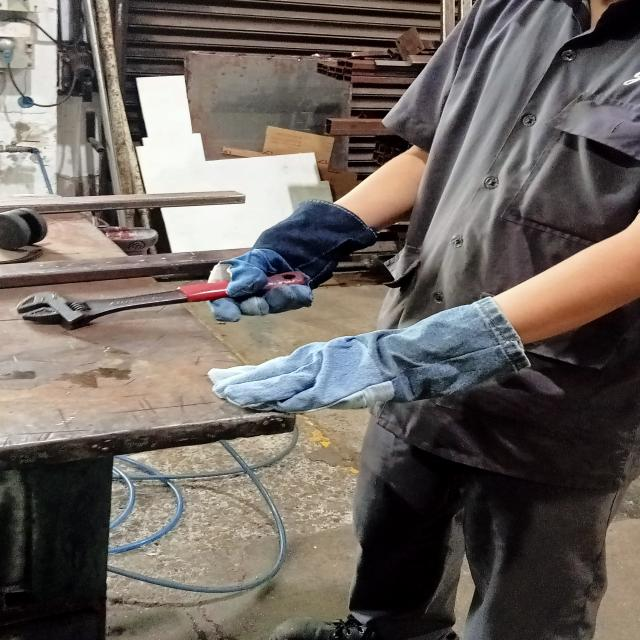Gloves-Detection: (217, 304, 518, 408), (205, 200, 362, 318)
